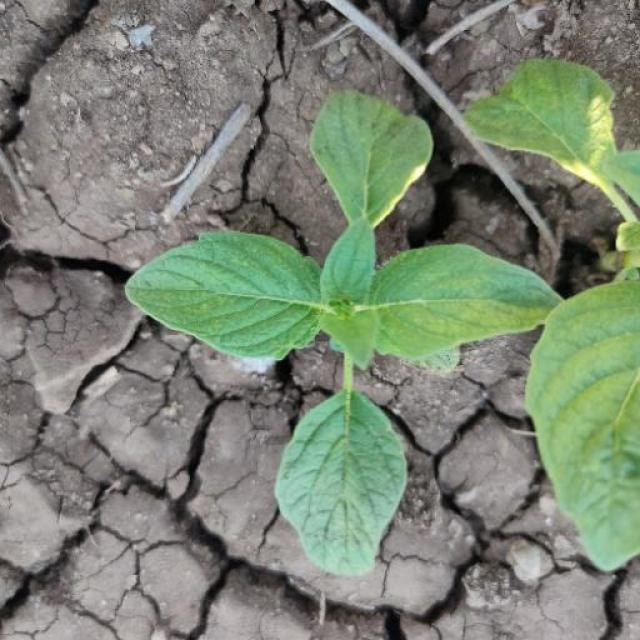crop: (129, 94, 550, 558)
